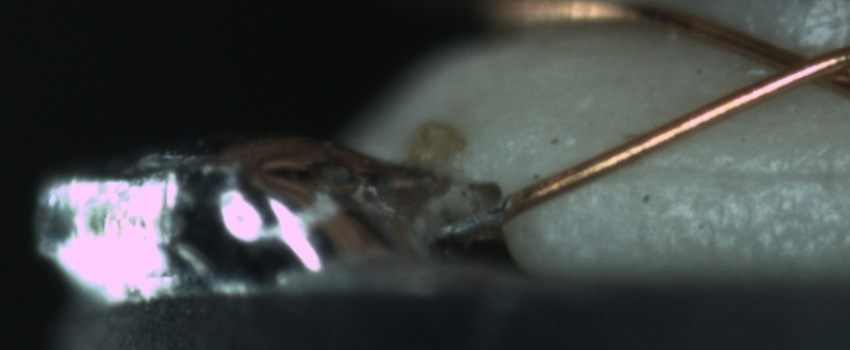CL: (748, 35, 846, 95)
DL: (613, 139, 847, 207)
TS: (434, 196, 513, 241)
